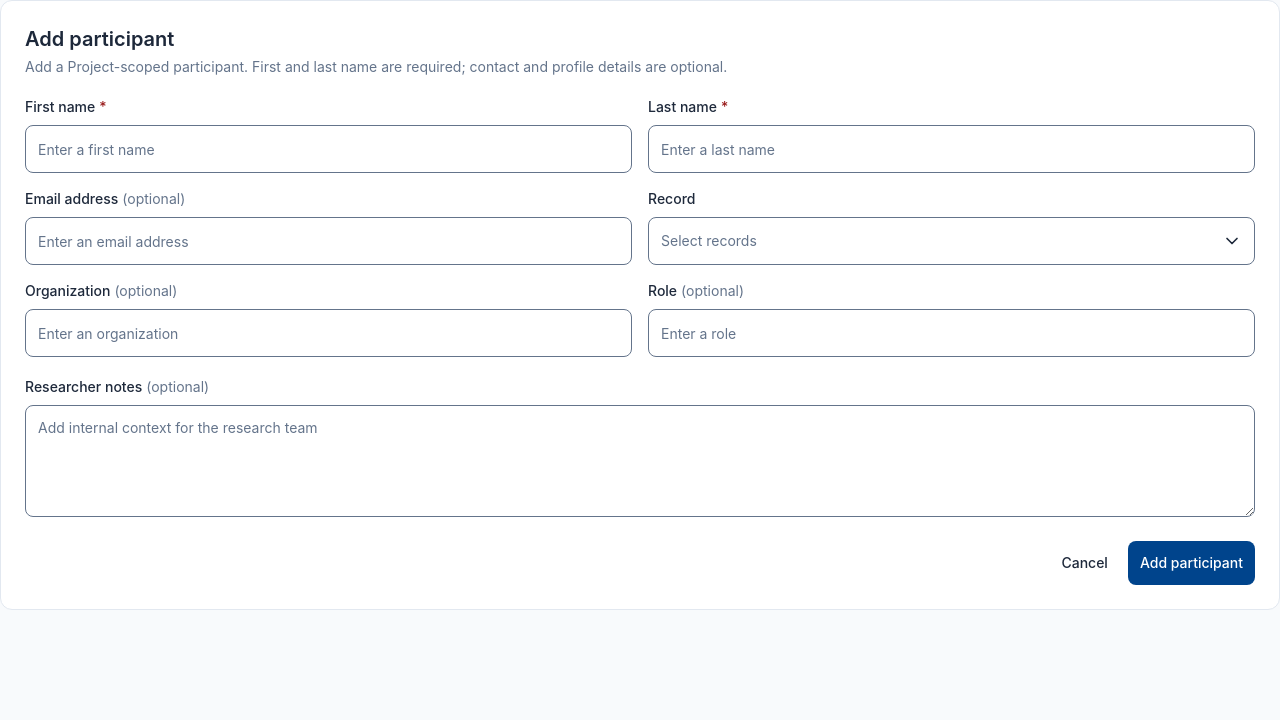
Scenario: ParticipantForm › requires first and last name
The width and height of the screenshot is (1280, 720).
Click the button "Add participant".
click(1191, 563)  # box [1128,541,1255,585]
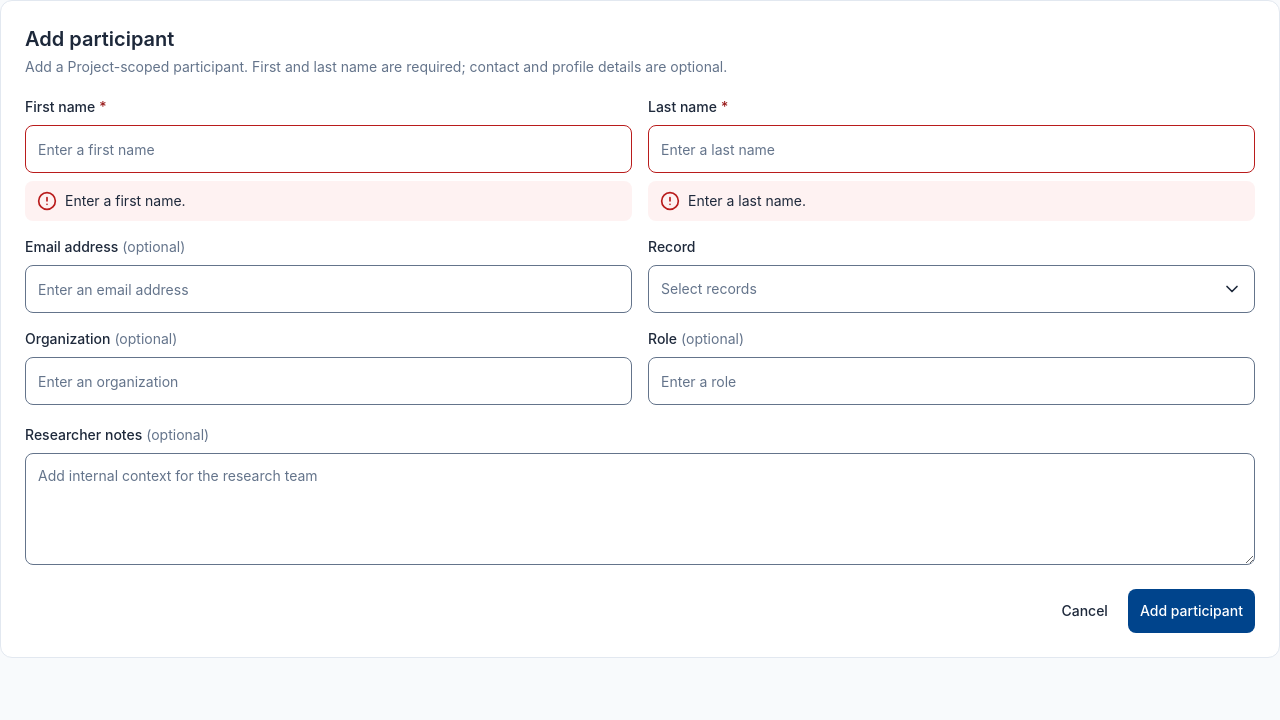
Result: the text "Enter a first name." is shown at [65,191,186,211]
Result: the text "Enter a last name." is shown at [688,191,806,211]
